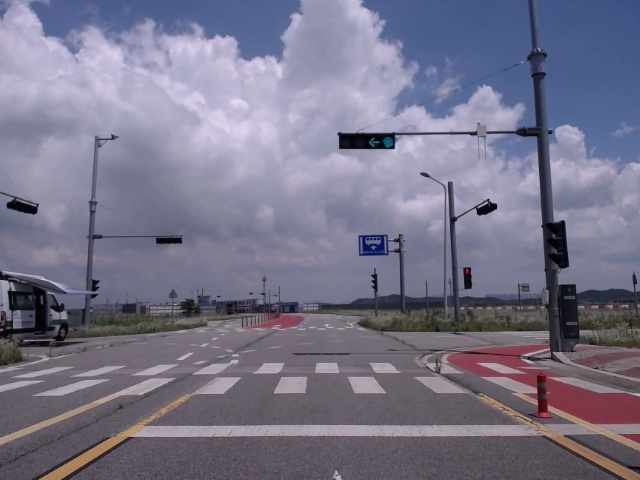all_green_4: (339, 134, 396, 150)
